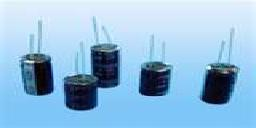Electrolytic-capacitor: (17, 20, 56, 98), (201, 27, 236, 106), (62, 40, 97, 108), (89, 21, 123, 90), (137, 33, 172, 97), (198, 60, 239, 106)
